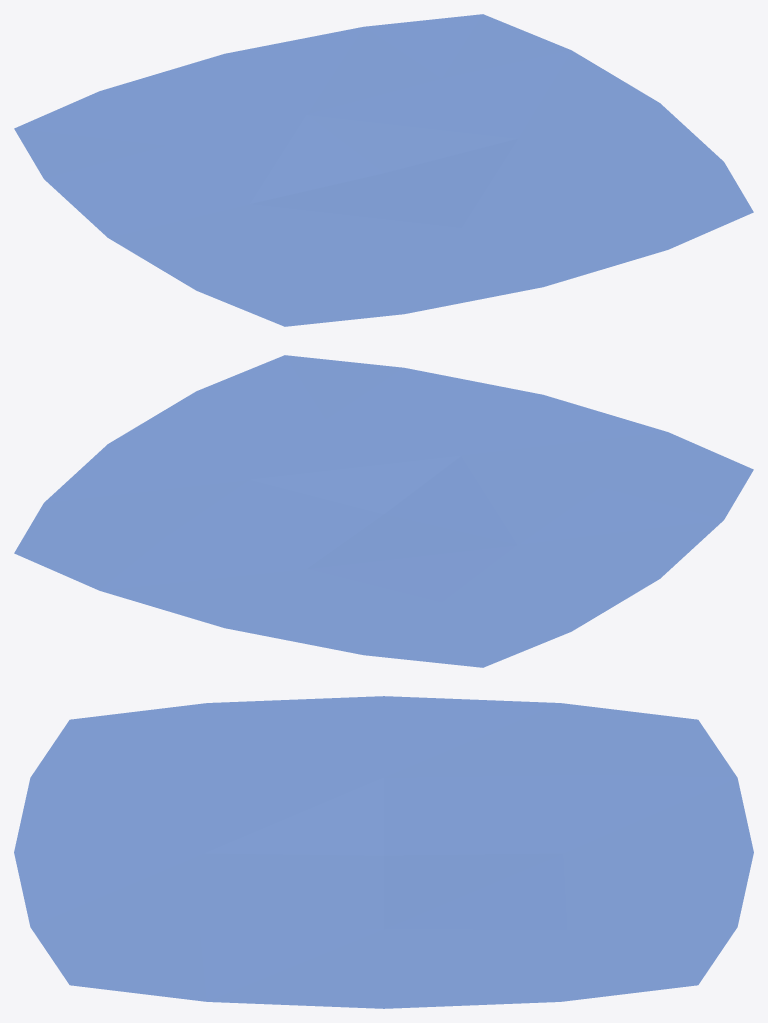
Rendered from puddle_lake.dae.
The picture shows the model from 3 angles, top to bottom: view 1: azimuth 30°, elevation 25°; view 2: azimuth 150°, elevation 25°; view 3: azimuth 270°, elevation 25°; orthographic projection. The views are drawn at different scales.
Parts seen in each view (by area): view 1: Plane.004; view 2: Plane.004; view 3: Plane.004.
Part boxes in pixels (x1,y1,x2,y2): Plane.004: (14, 14, 753, 326); Plane.004: (14, 355, 753, 667); Plane.004: (14, 696, 753, 1008).
Bounding box in the file's own units: 13.87 × 13.87 × 0.067.
